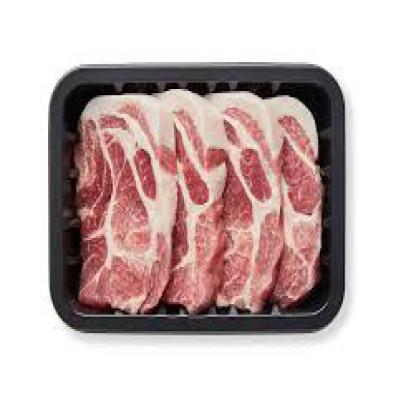pork: (232, 93, 325, 304), (82, 100, 172, 308), (174, 97, 232, 302)
